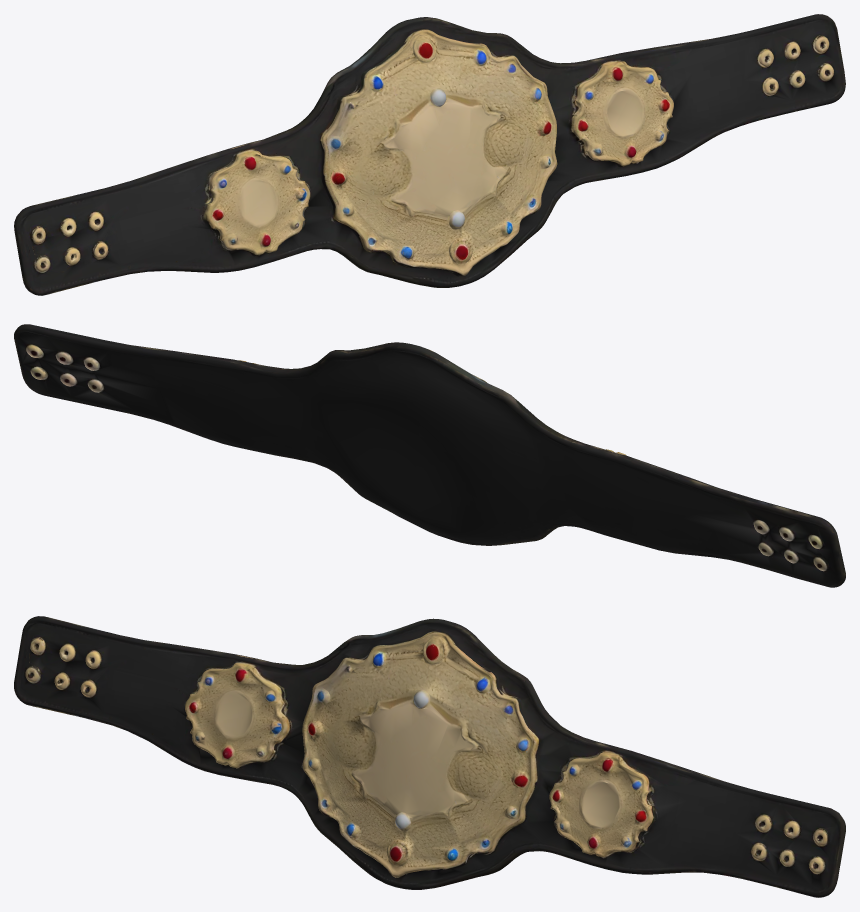
File: item-belt.glb
3 views of the same model, one above another, from view 1: azimuth 30°, elevation 25°; view 2: azimuth 150°, elevation 25°; view 3: azimuth 330°, elevation 25° (orthographic).
Visible parts, largest first — view 1: material; view 2: material; view 3: material.
Boxes of the visible parts, x1,y1,x2,y2 form: material: (14,14,845,295); material: (14,324,845,587); material: (14,616,845,897).
Bounding box in the file's own units: 1.2 × 0.3226 × 0.1381.
Materials: 1 (1 with a texture image).
